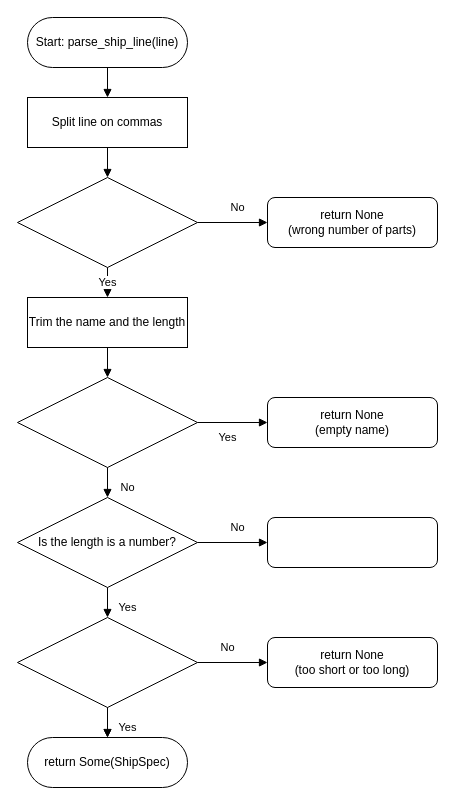
Image size: 455x805. Some labels were removed from this diagram. The shapes that lost their labels are listed below. From the top down, each one's centre as x and y in pixels, then its label:
pixel 107 222: Exactly 2 parts? (ex. Guy,3)
pixel 107 422: Name empty?
pixel 352 542: return None (not a number)
pixel 107 662: Is the length between 2 and 5?
